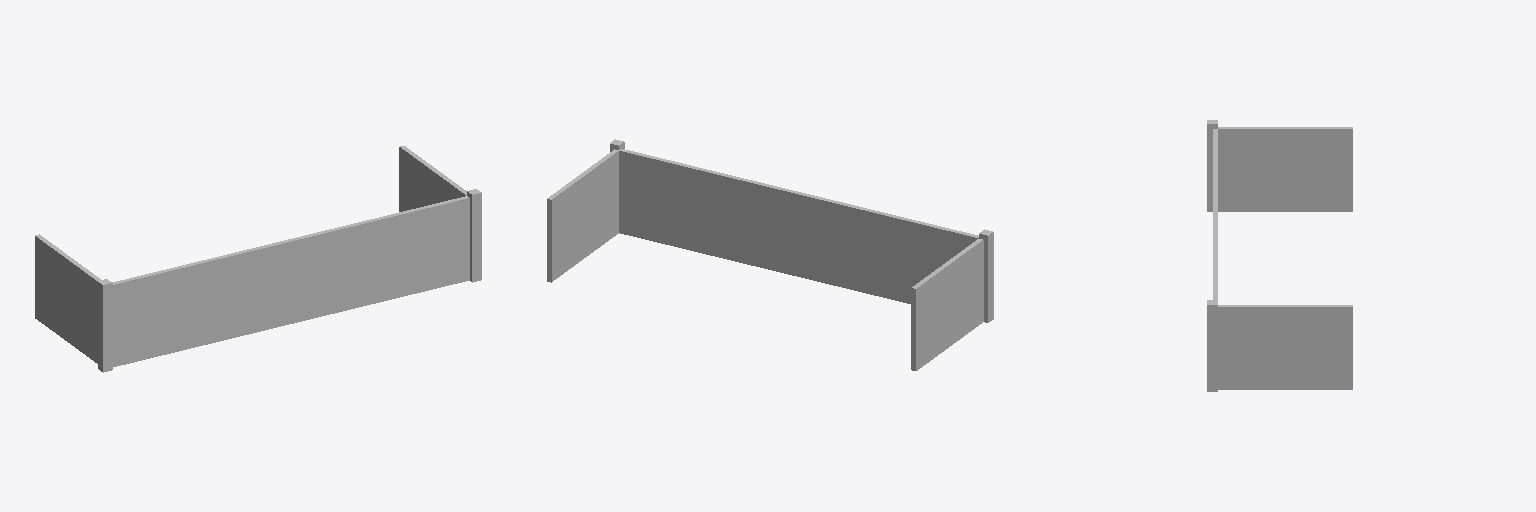
Rendered from fence_short.obj.
3 views of the same model, side by side, from view 1: azimuth 30°, elevation 25°; view 2: azimuth 150°, elevation 25°; view 3: azimuth 270°, elevation 25° (orthographic).
Parts seen in each view (by area): view 1: fence_short; view 2: fence_short; view 3: fence_short.
Part boxes in pixels (x1,y1,x2,y2): fence_short: (35,146,481,372); fence_short: (547,139,993,370); fence_short: (1207,120,1352,391).
Bounding box in the file's own units: 1.2 × 0.265 × 0.4.